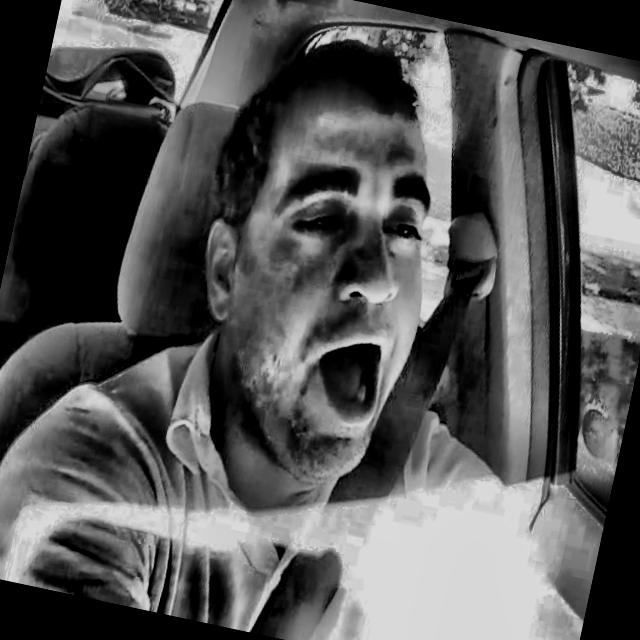open_mouth: (300, 311, 402, 451)
